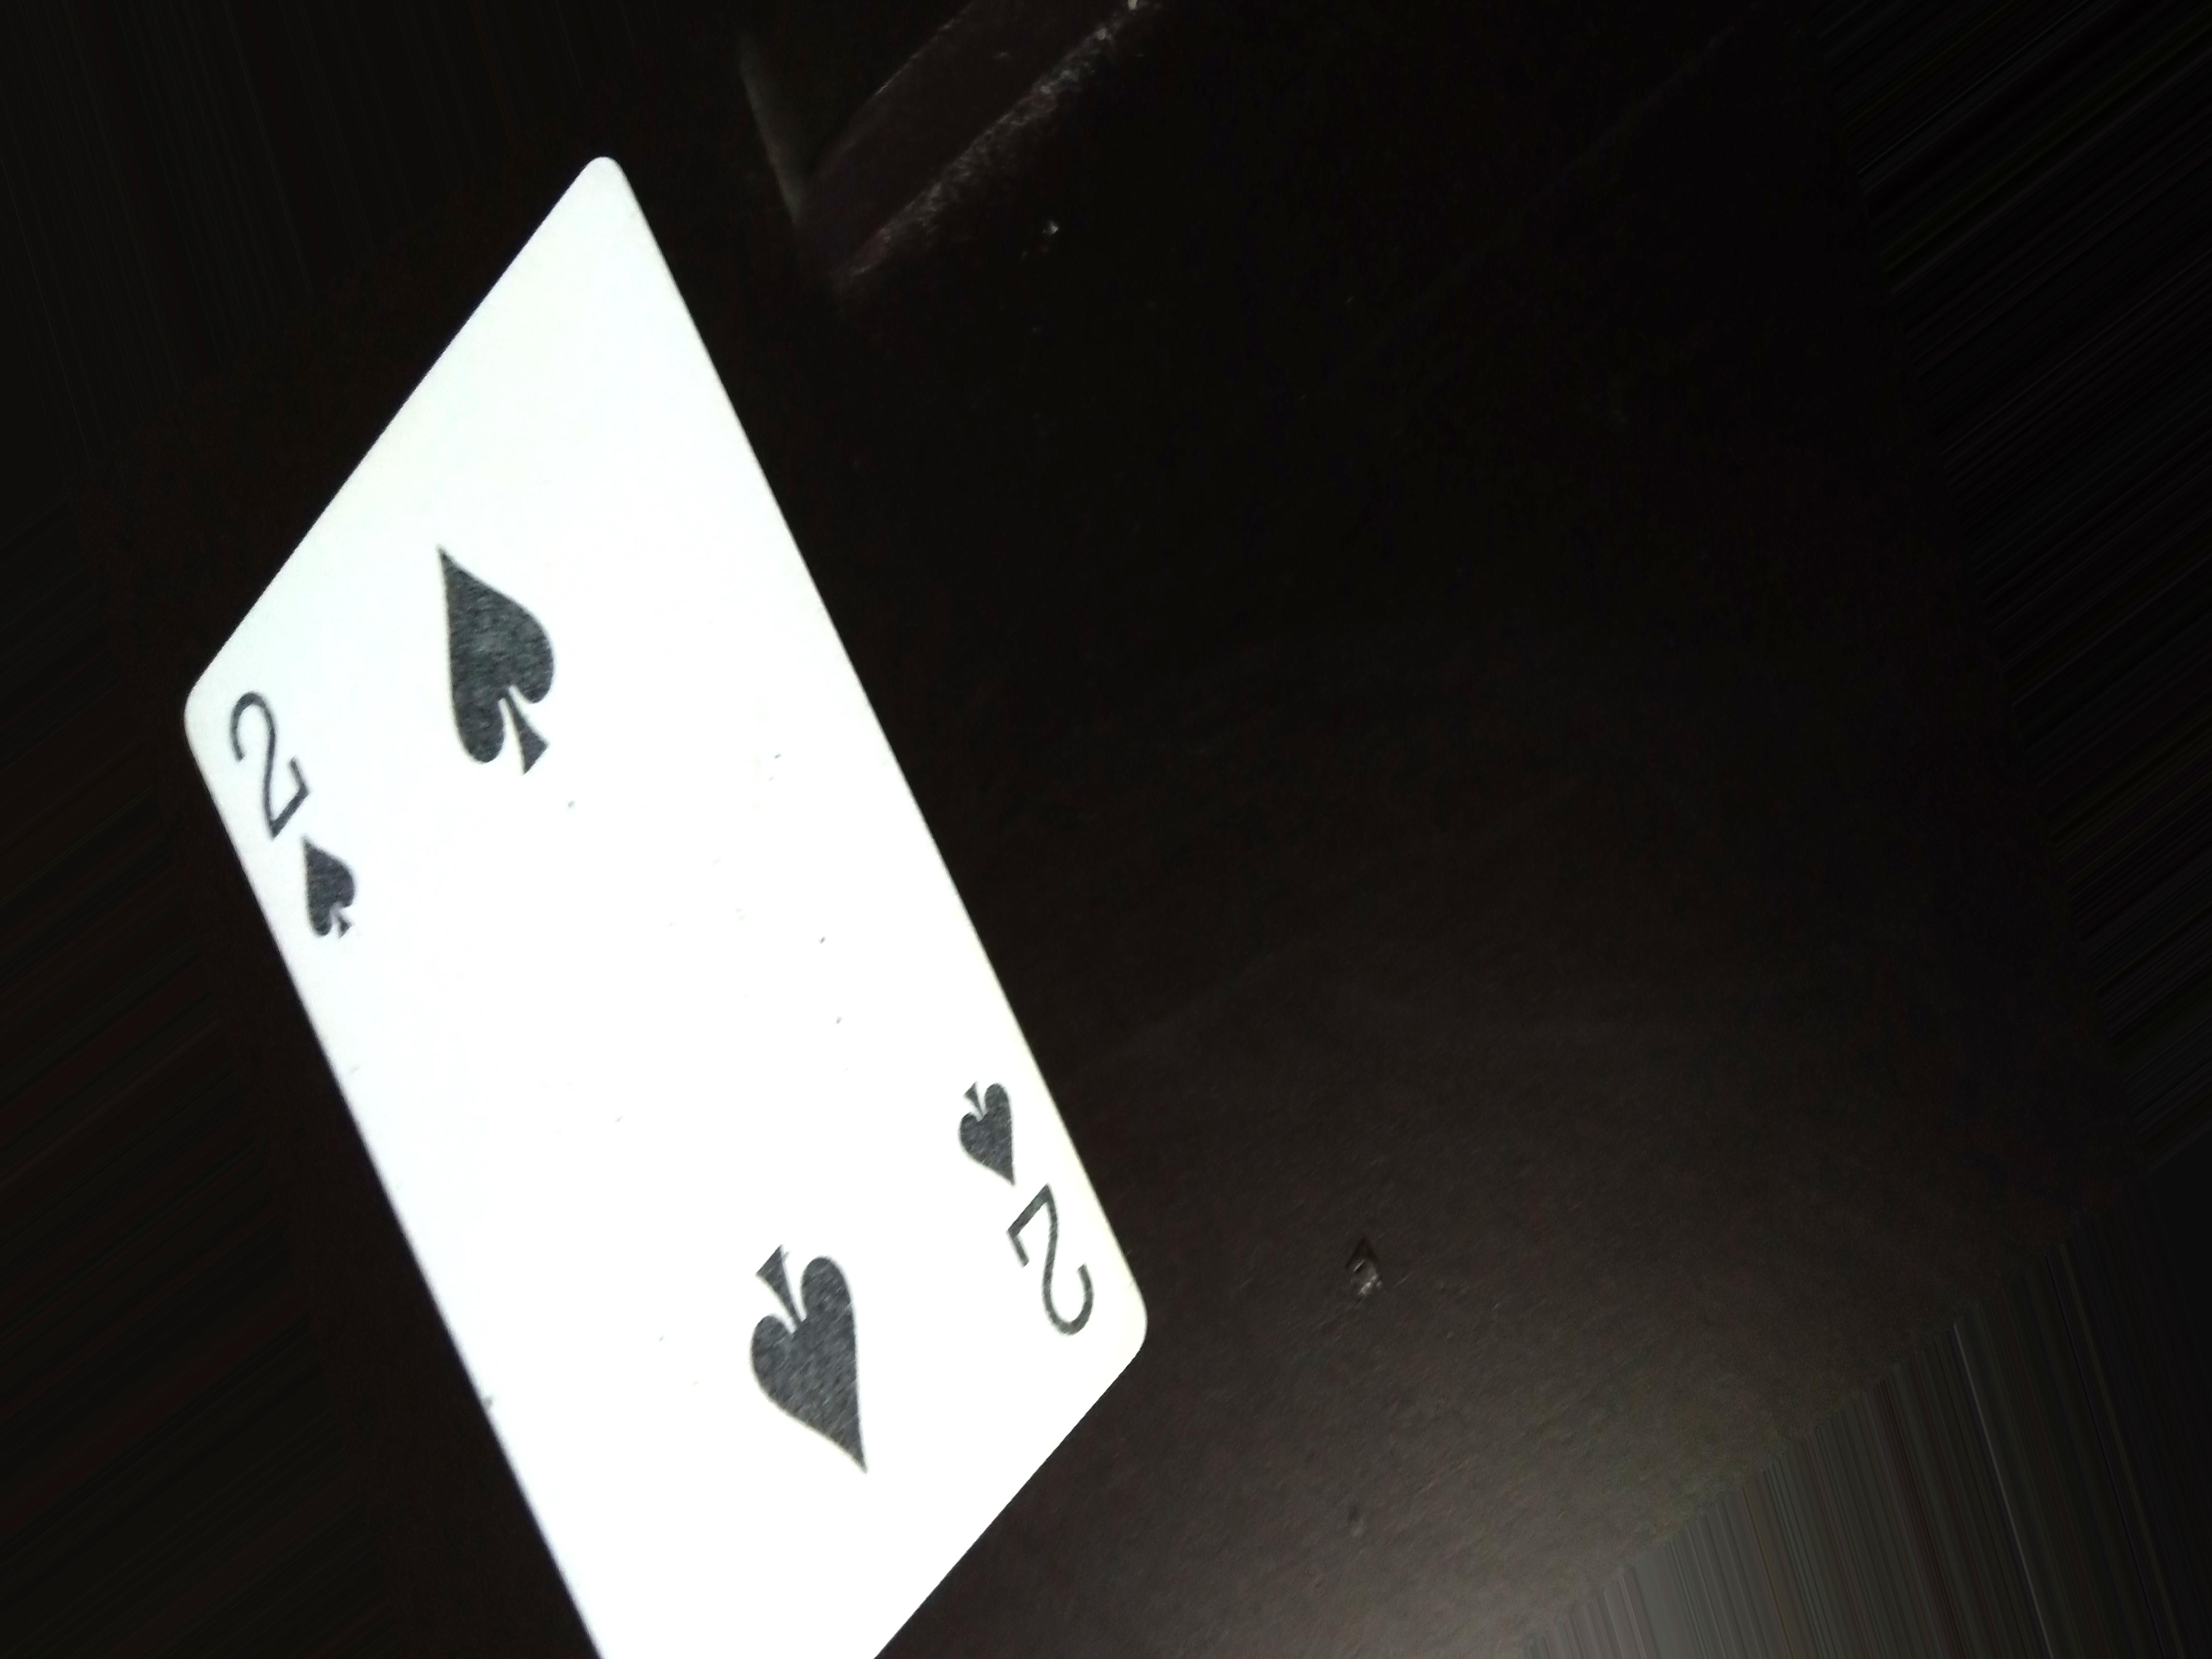2S: (212, 681, 399, 958)
